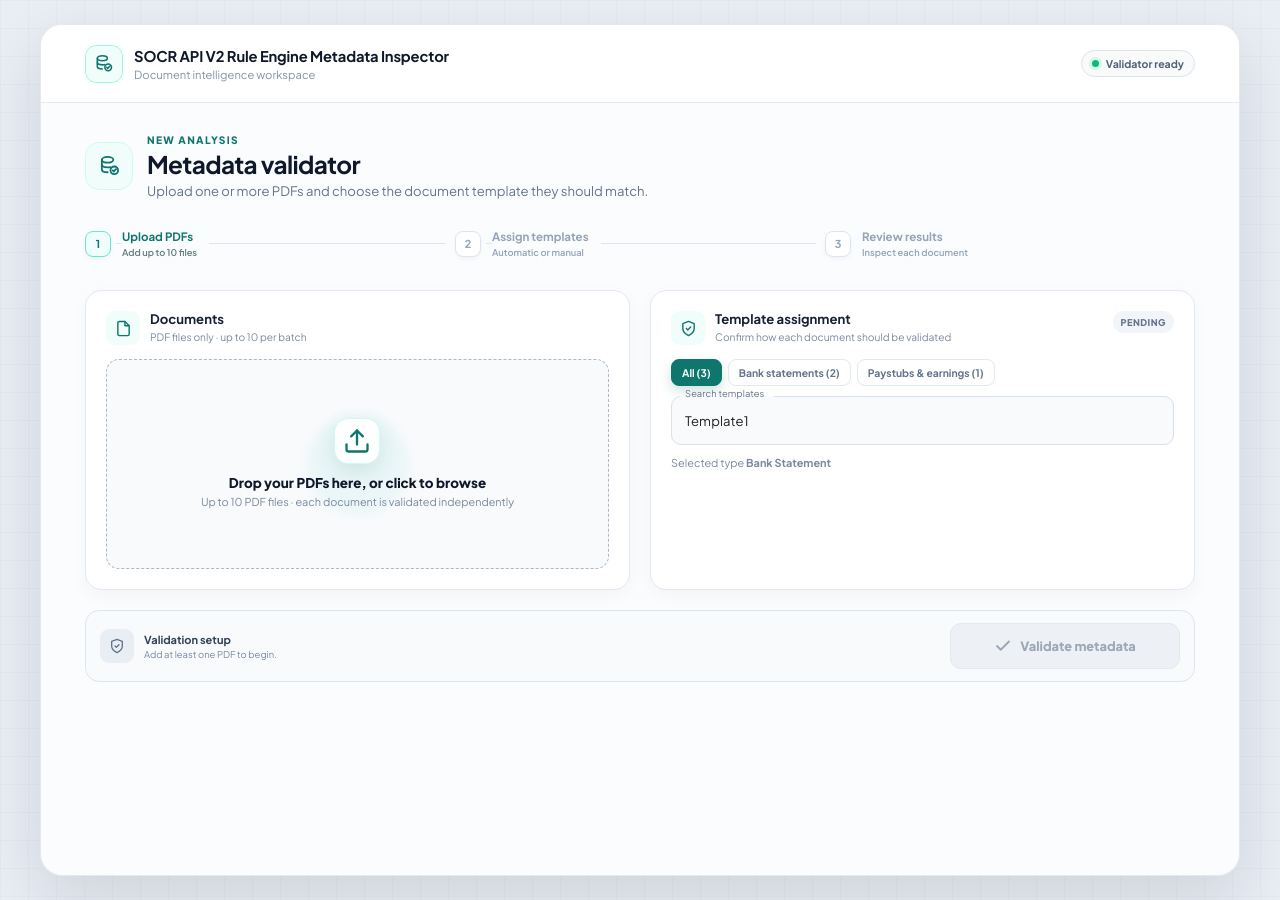
Scenario: page contains a search textbox, that once an item is clicked, that item becomes selected
Replace the text in the field labelled "Search templates" with "Tem" at x=922, y=421, box [680,404,1165,438]
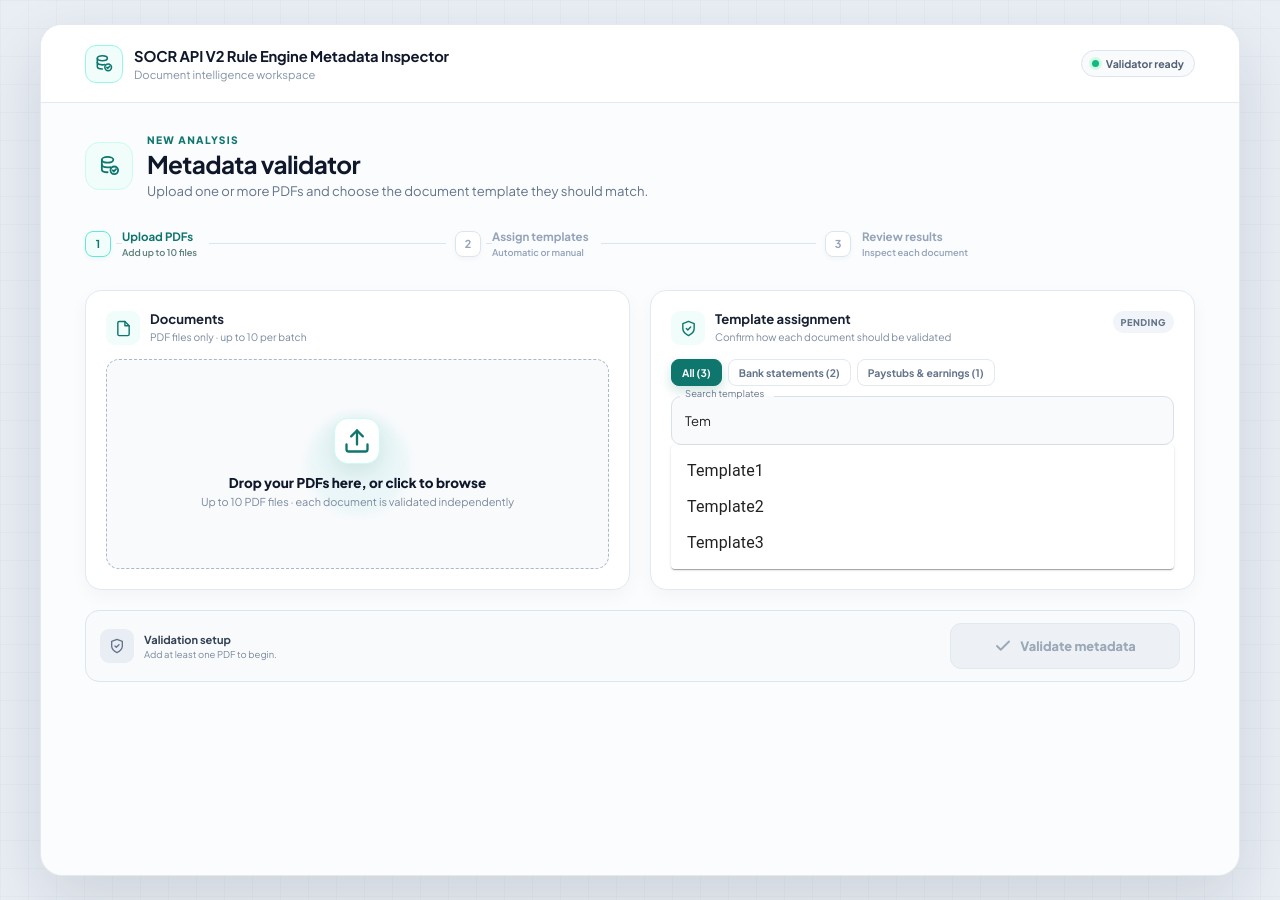
Click the option "Template1".
click(725, 470)  # box [687,461,764,480]
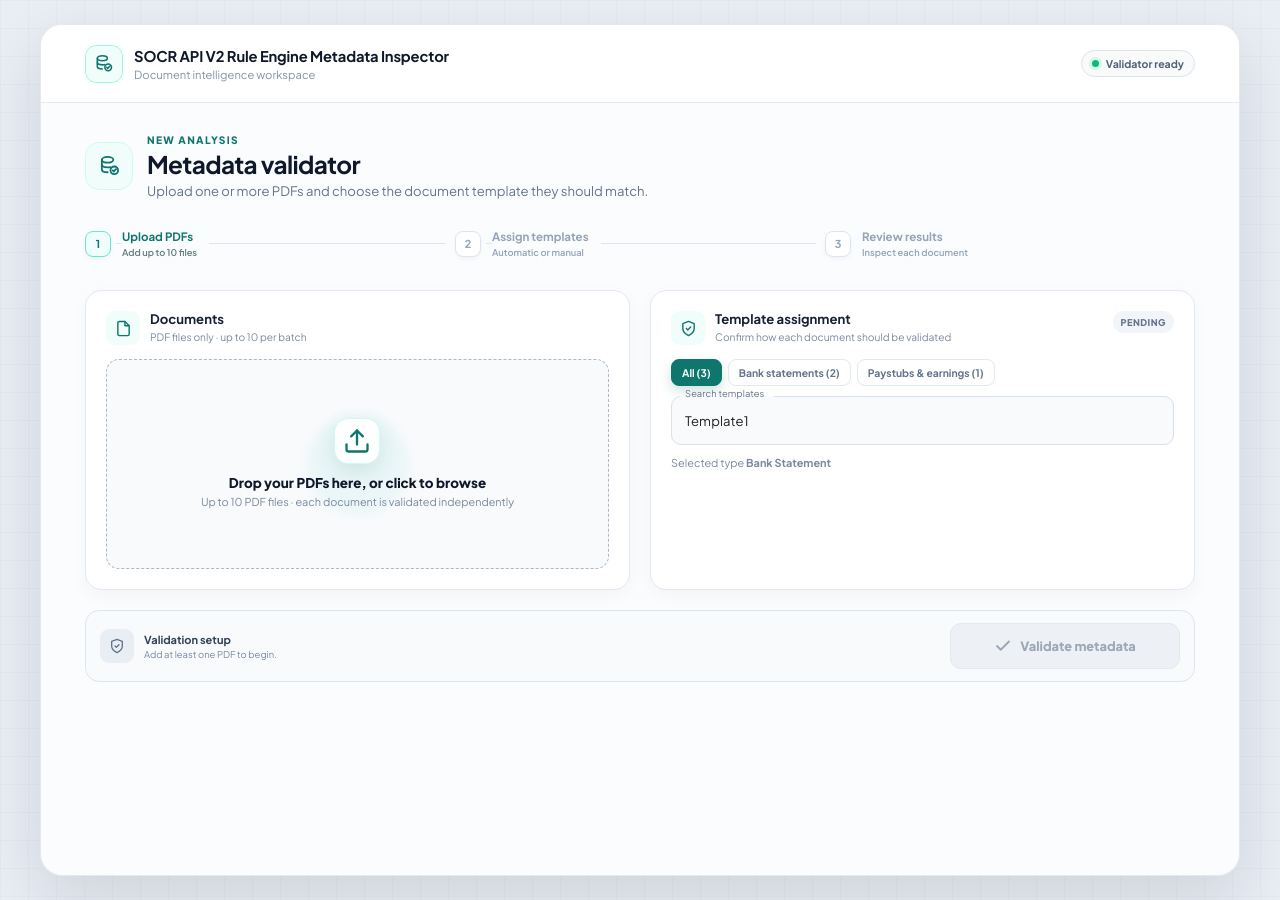
Check: the option "Template2" is gone
Check: the option "Template3" is gone
Check: the field labelled "Search templates" holds "Template1", box [680,404,1165,438]
